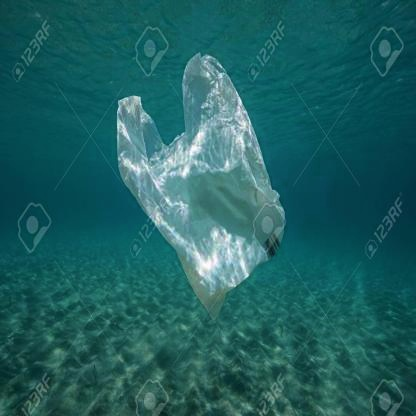pbag: (116, 50, 287, 322)
